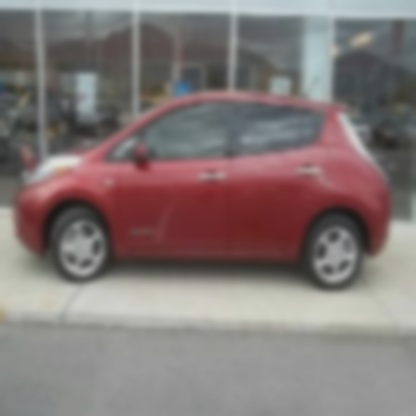Vehicle: (11, 89, 392, 292)
